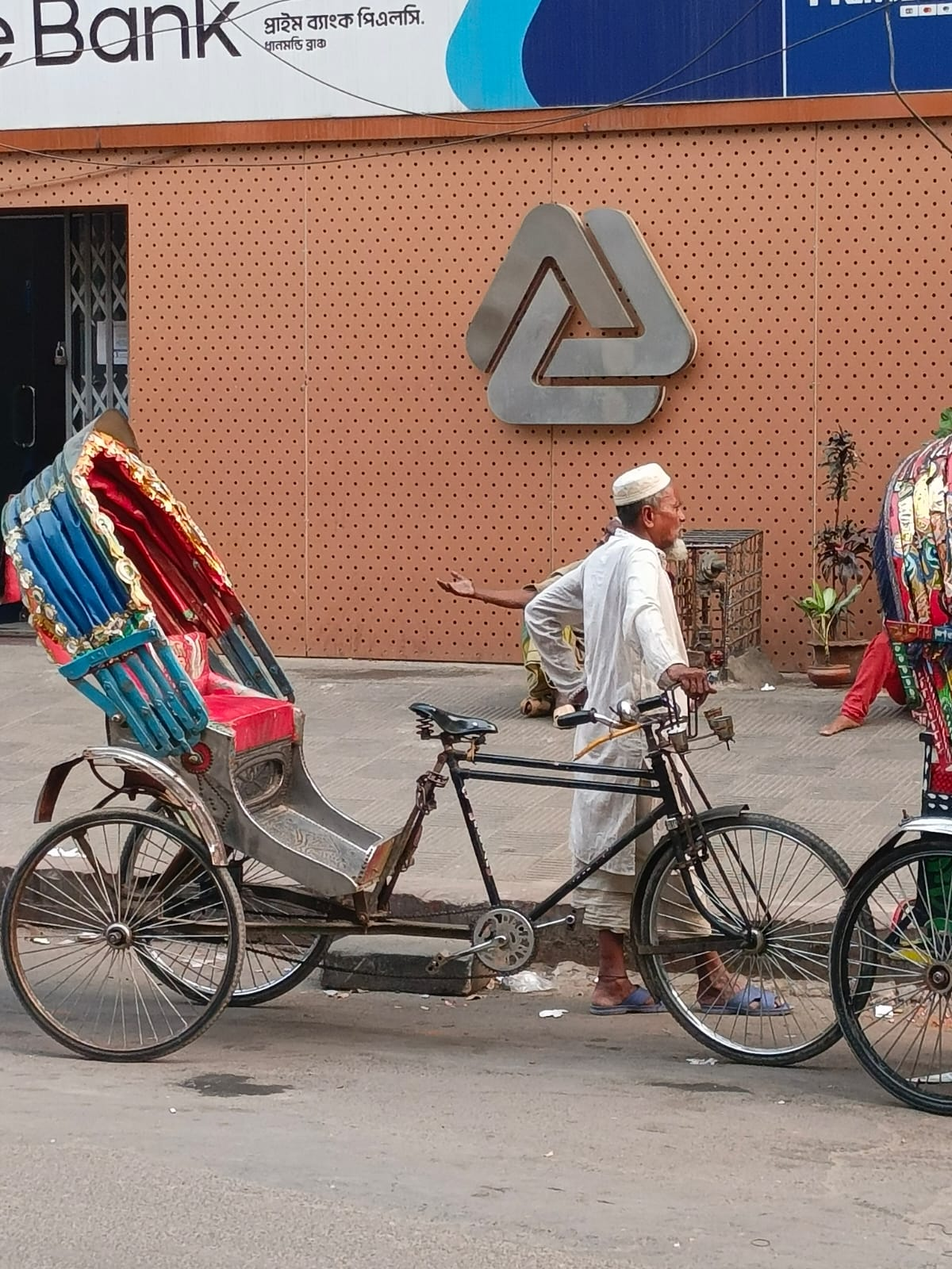auto-ricksaw: (21, 365, 941, 1217)
